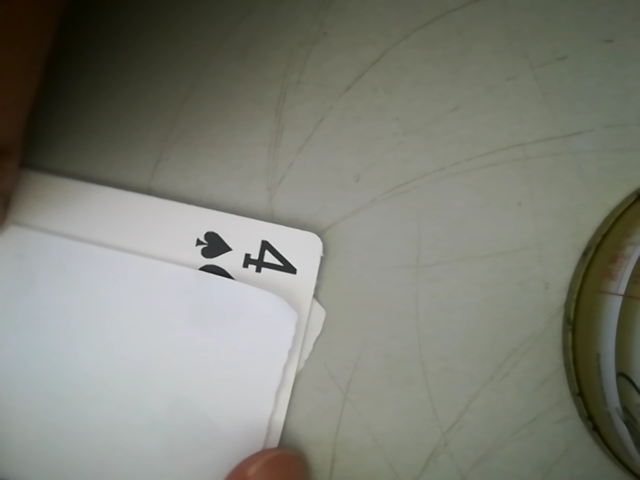ht 4: (177, 222, 323, 288)
